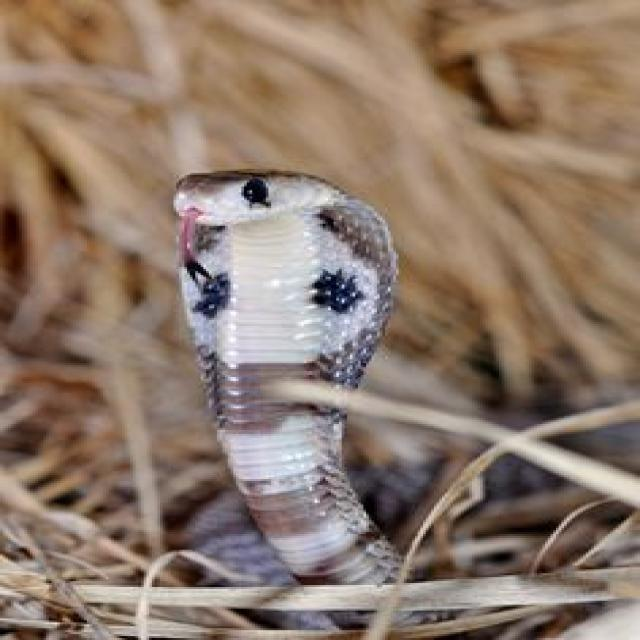Snake: (152, 161, 640, 628)
